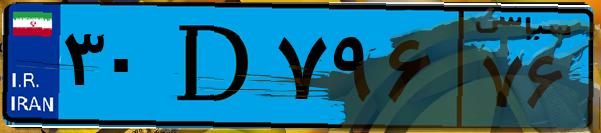0: (110, 28, 158, 98)
3: (57, 26, 110, 100)
6: (385, 28, 445, 110), (525, 38, 570, 115)
7: (270, 28, 330, 110), (475, 38, 525, 113)
9: (330, 28, 385, 110)
D: (158, 12, 270, 120)
